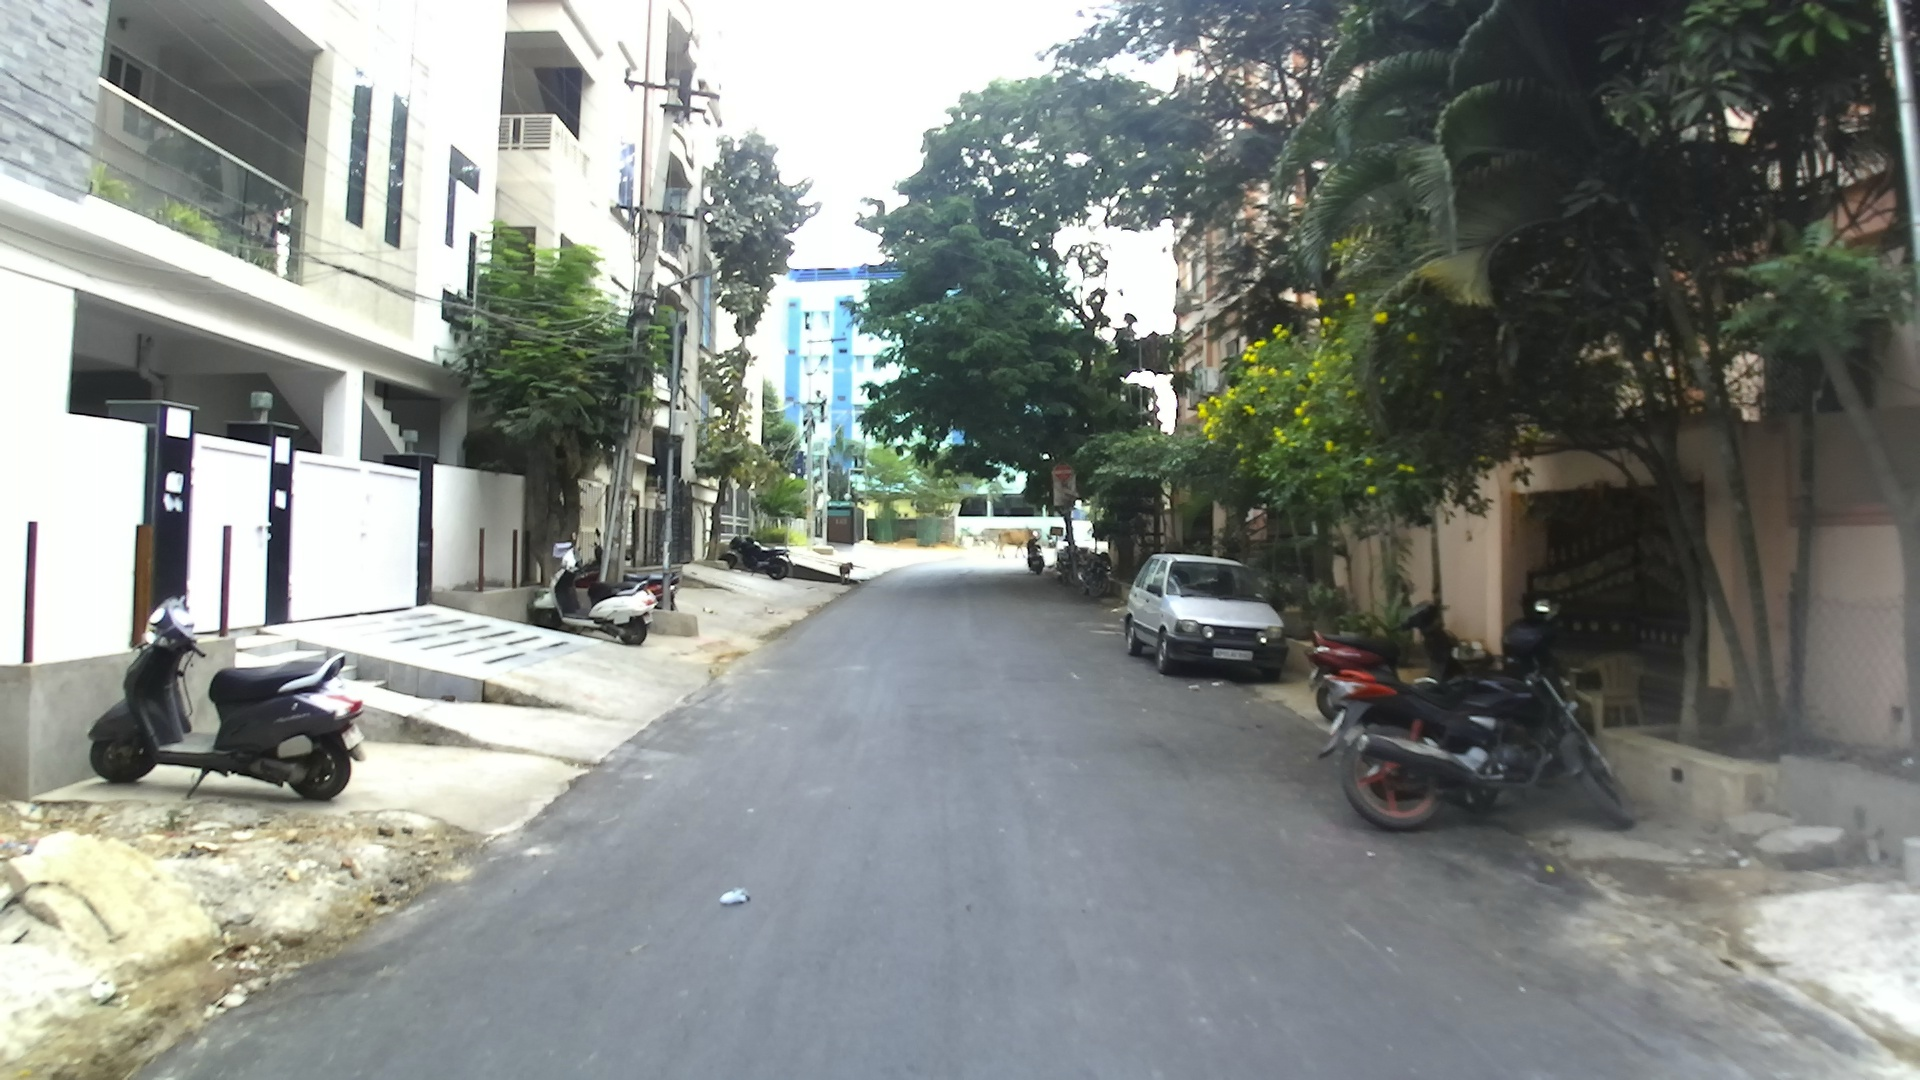vehicle: (1313, 611, 1639, 836), (84, 630, 368, 800), (1122, 553, 1288, 680)
